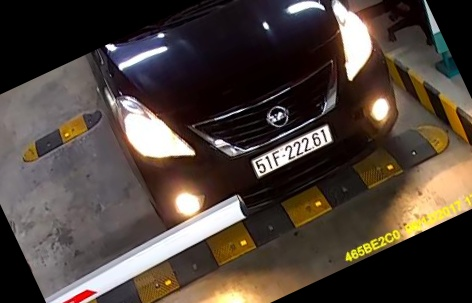plate: (252, 126, 340, 184)
